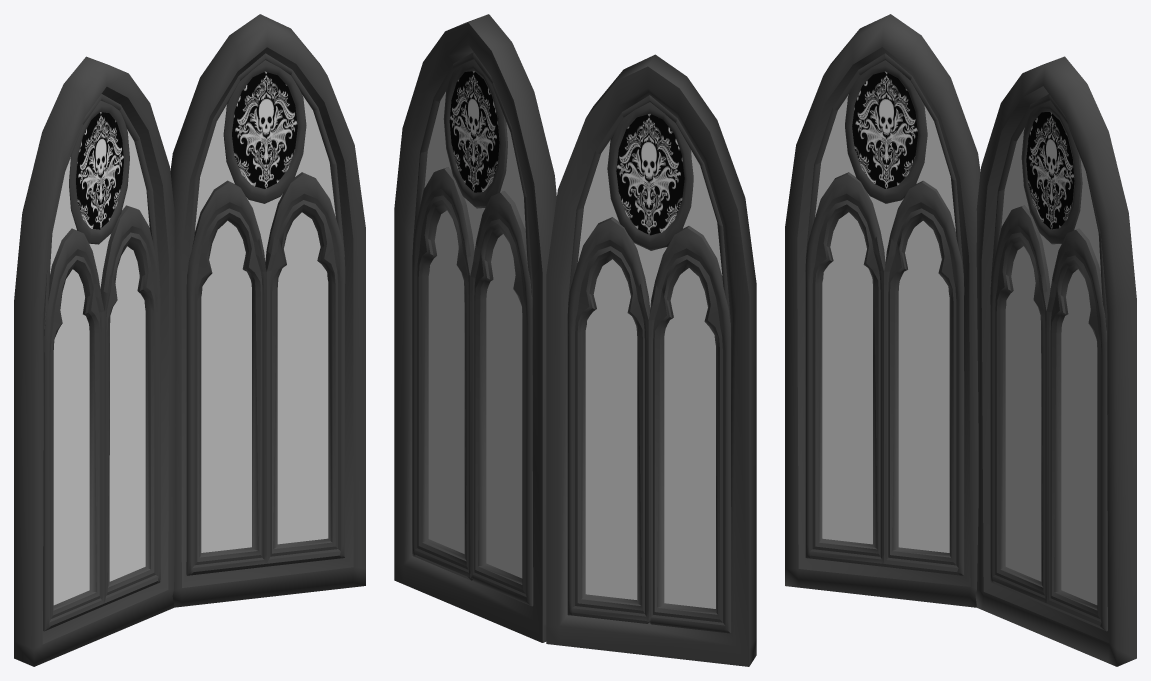
Rendered from s_biombo.glb.
3 renders of one model, left to right at view 1: azimuth 30°, elevation 25°; view 2: azimuth 150°, elevation 25°; view 3: azimuth 330°, elevation 25°, orthographic. The views are drawn at different scales.
Visible parts, largest first — view 1: Cube.001_Window_0; view 2: Cube.001_Window_0; view 3: Cube.001_Window_0.
Part boxes in pixels (left/top/right/bottom): Cube.001_Window_0: left=14, top=14, right=365, bottom=666; Cube.001_Window_0: left=394, top=14, right=756, bottom=666; Cube.001_Window_0: left=785, top=14, right=1136, bottom=666.
Bounding box in the file's own units: 1.14 × 1.8 × 0.2289.
3 materials, 1 textured.
